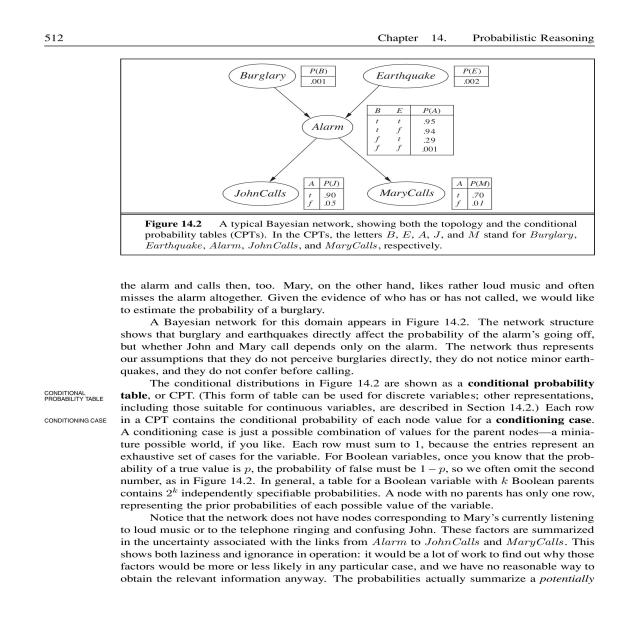diagram: (124, 60, 581, 251)
